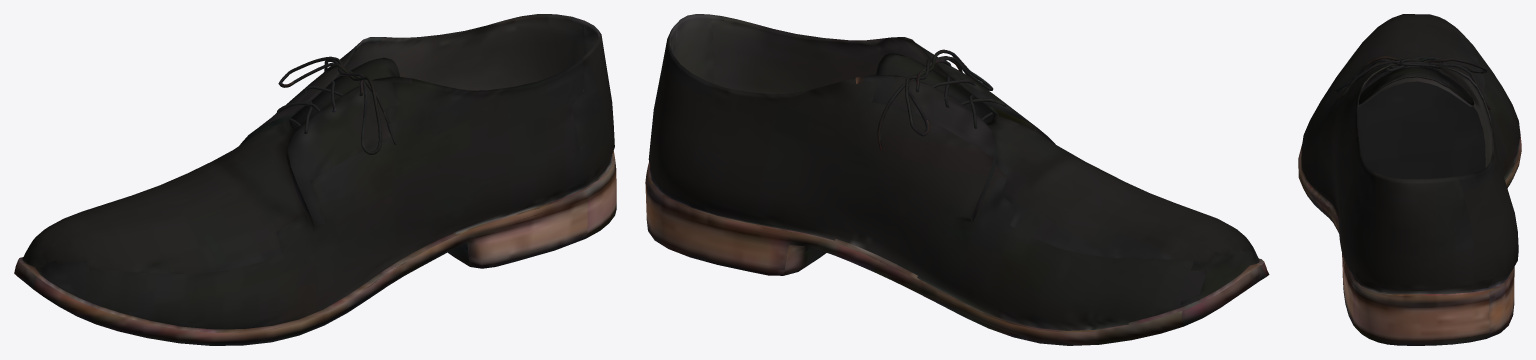
File: ropa_shoes.glb
The picture shows the model from 3 angles, left to right: view 1: azimuth 30°, elevation 25°; view 2: azimuth 150°, elevation 25°; view 3: azimuth 270°, elevation 25°; orthographic projection. The views are drawn at different scales.
Parts seen in each view (by area): view 1: Object_4; view 2: Object_4; view 3: Object_4.
Part boxes in pixels (x1,y1,x2,y2): Object_4: (14,14,616,345); Object_4: (645,14,1269,345); Object_4: (1298,14,1521,345).
Bounding box in the file's own units: 0.28 × 0.0907 × 0.1007.
1 material, 1 textured.
